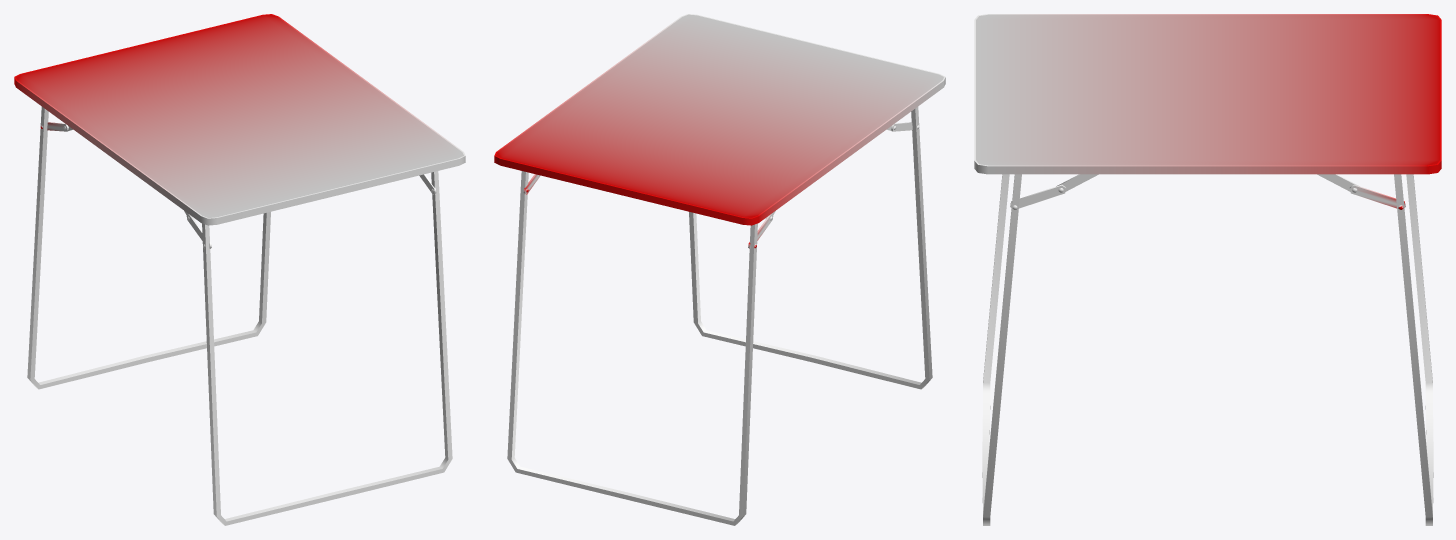
File: SM_CampingTable.FBX
3 renders of one model, left to right at view 1: azimuth 30°, elevation 25°; view 2: azimuth 150°, elevation 25°; view 3: azimuth 270°, elevation 25°, orthographic. The views are drawn at different scales.
Parts seen in each view (by area): view 1: SM_CampingTable_LOD0; view 2: SM_CampingTable_LOD0; view 3: SM_CampingTable_LOD0.
Boxes of the visible parts, <box> form: SM_CampingTable_LOD0: <box>14,14,465,525</box>; SM_CampingTable_LOD0: <box>494,14,945,525</box>; SM_CampingTable_LOD0: <box>974,14,1441,525</box>.
Size of what is drawn, in the model's own units: 60.61 by 78.61 by 69.09.
